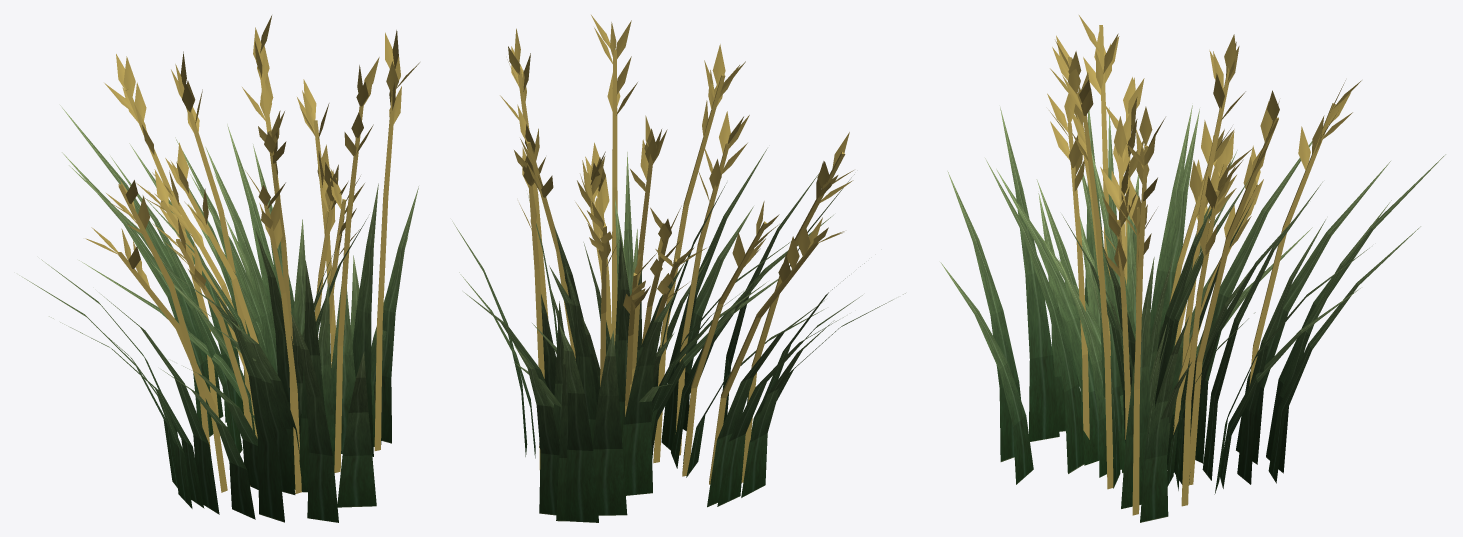
The model's file is Grass_Seed.glb.
The picture shows the model from 3 angles, left to right: view 1: azimuth 30°, elevation 25°; view 2: azimuth 150°, elevation 25°; view 3: azimuth 270°, elevation 25°; orthographic projection. The views are drawn at different scales.
Parts seen in each view (by area): view 1: Grass_Seed__Blades, Grass_Seed__Seeds; view 2: Grass_Seed__Blades, Grass_Seed__Seeds; view 3: Grass_Seed__Blades, Grass_Seed__Seeds.
Boxes of the visible parts, x1,y1,x2,y2 form: Grass_Seed__Blades: (19, 105, 418, 522); Grass_Seed__Seeds: (85, 15, 419, 493); Grass_Seed__Blades: (452, 148, 905, 522); Grass_Seed__Seeds: (500, 15, 853, 484); Grass_Seed__Blades: (940, 105, 1445, 522); Grass_Seed__Seeds: (1047, 15, 1361, 515).
Bounding box in the file's own units: 5.62 × 5.38 × 5.84.
Materials: 2 (2 with a texture image).
